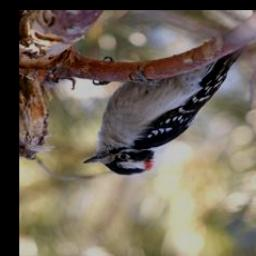Woodpecker: (83, 45, 244, 175)
